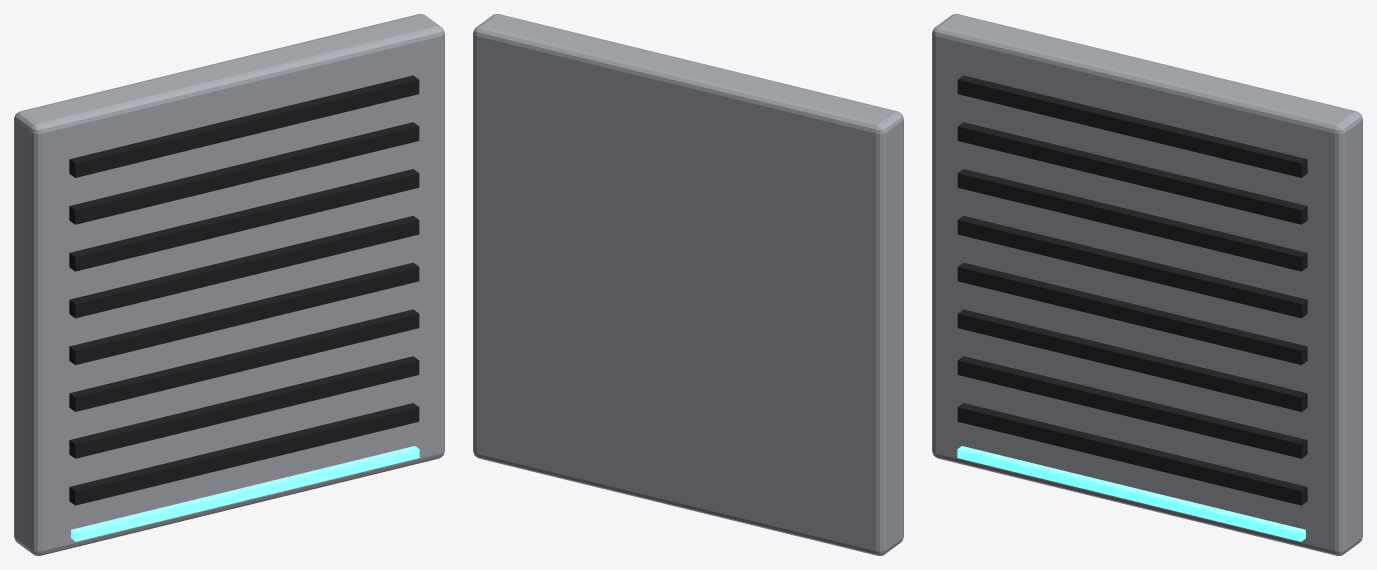
The model's file is wall_vent_grille_square.glb.
3 views of the same model, side by side, from view 1: azimuth 30°, elevation 25°; view 2: azimuth 150°, elevation 25°; view 3: azimuth 330°, elevation 25° (orthographic).
Visible parts, largest first — view 1: GD_wall_vent_grille_square__m0, GD_wall_vent_grille_square__m1, GD_wall_vent_grille_square__m2; view 2: GD_wall_vent_grille_square__m0; view 3: GD_wall_vent_grille_square__m0, GD_wall_vent_grille_square__m1, GD_wall_vent_grille_square__m2.
Part boxes in pixels (x1,y1,x2,y2): GD_wall_vent_grille_square__m0: [14, 14, 444, 555]; GD_wall_vent_grille_square__m1: [69, 75, 419, 505]; GD_wall_vent_grille_square__m2: [71, 446, 419, 541]; GD_wall_vent_grille_square__m0: [473, 14, 903, 555]; GD_wall_vent_grille_square__m0: [932, 14, 1362, 555]; GD_wall_vent_grille_square__m1: [957, 75, 1307, 505]; GD_wall_vent_grille_square__m2: [957, 446, 1305, 541].
Bounding box in the file's own units: 0.6 × 0.6 × 0.076.
